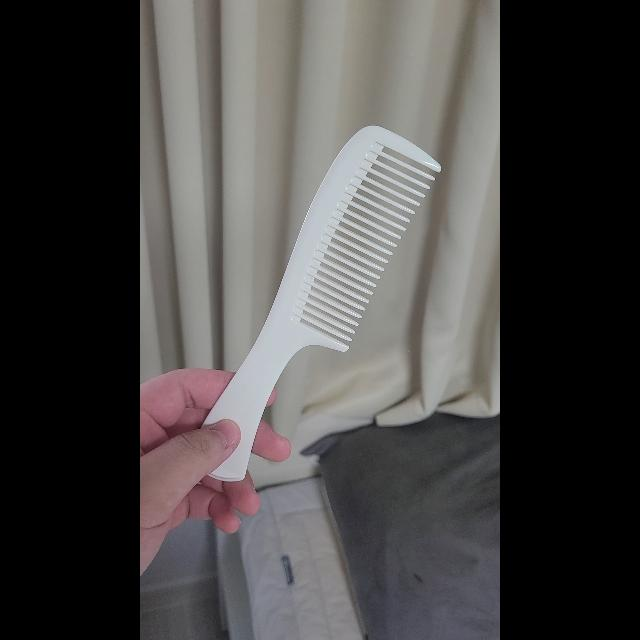COMB: (203, 125, 442, 482)
